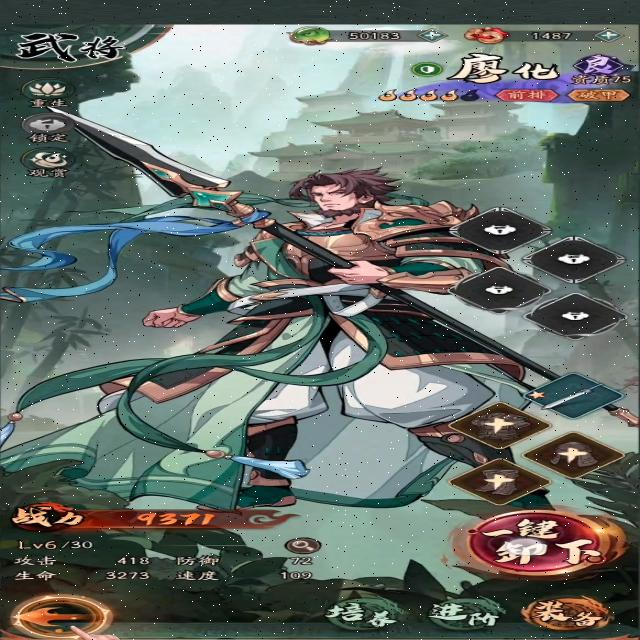hint-guide: (453, 507, 633, 586), (0, 594, 128, 640)
operation-advanced: (426, 597, 504, 628)
operation-back: (9, 604, 106, 632)
operation-equipment: (522, 593, 610, 632)
operation-levelUp: (462, 512, 623, 574)
operation-train: (325, 599, 407, 630)
